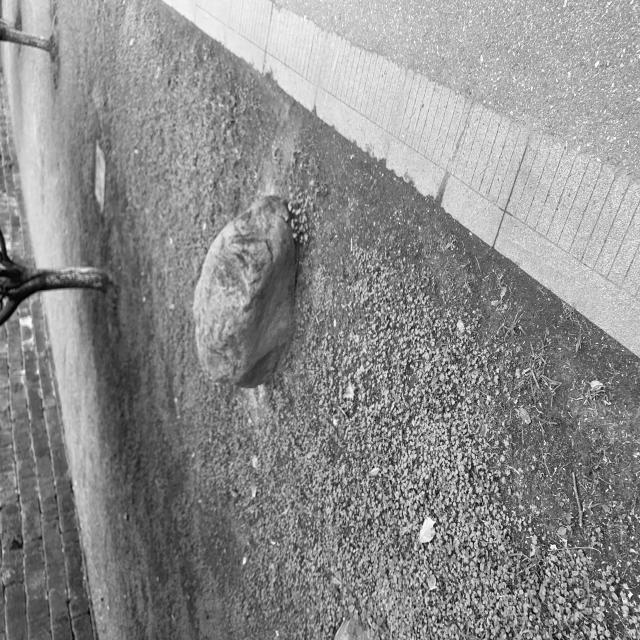Stone: (194, 195, 296, 387)
